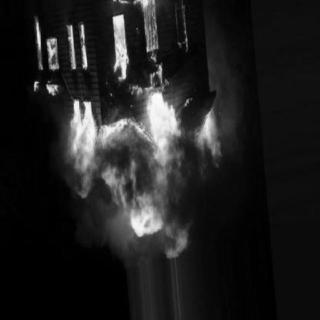Fire: (29, 18, 62, 98)
